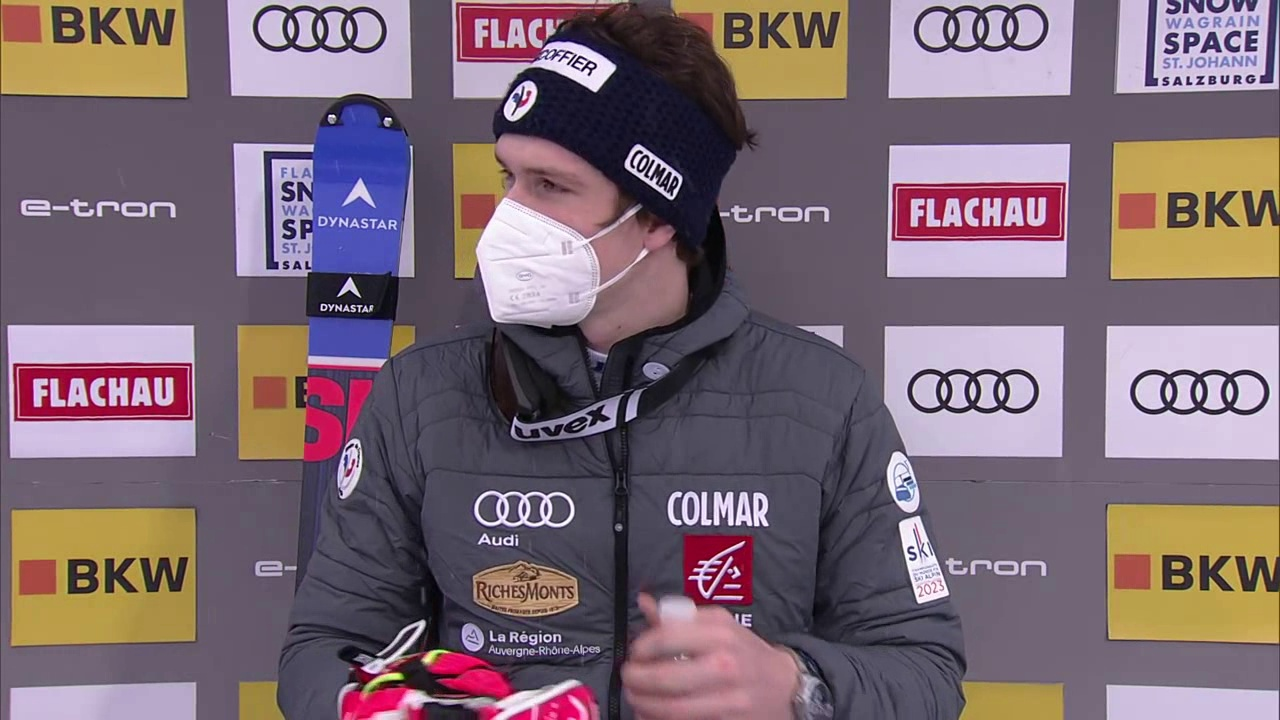BKW: (1104, 529, 1274, 621), (18, 533, 186, 618), (1117, 167, 1266, 249)
audi: (913, 2, 1054, 60), (254, 1, 391, 60), (1133, 366, 1271, 423), (908, 367, 1034, 421), (473, 488, 578, 542)
etron: (711, 203, 836, 229), (938, 555, 1054, 582)
flachau: (13, 363, 192, 424), (893, 182, 1061, 245), (453, 2, 615, 63)
